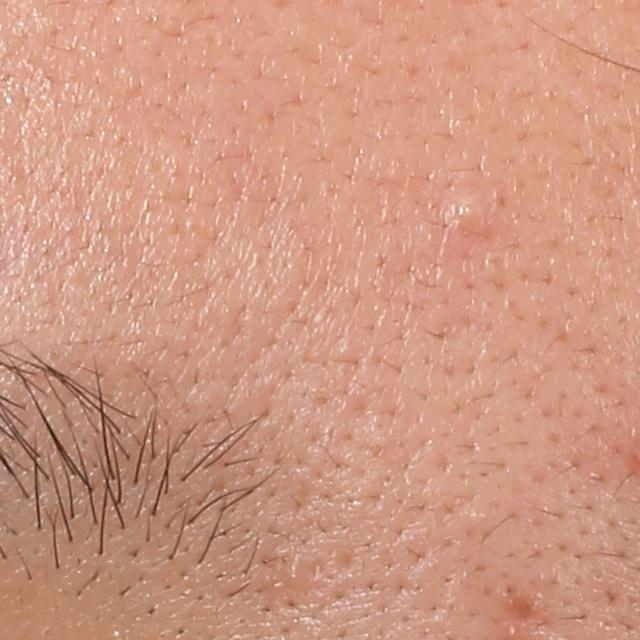papule: (433, 187, 489, 247)
